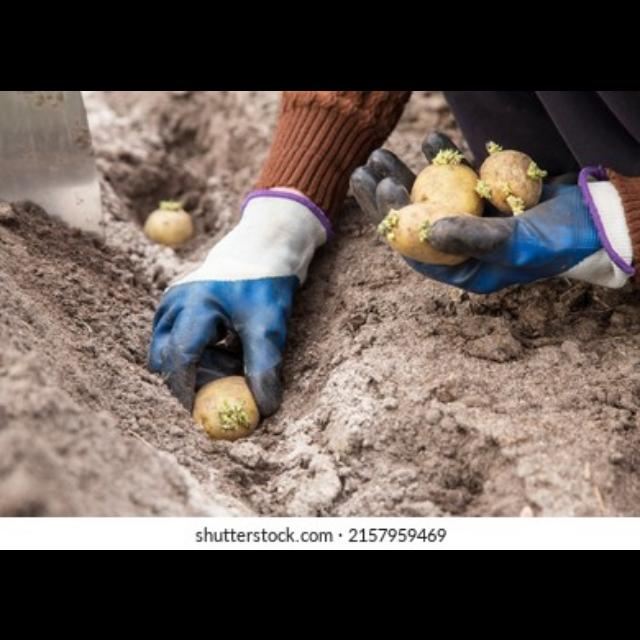Sprouted potato: (370, 193, 480, 265), (182, 364, 268, 446), (470, 128, 546, 216), (408, 148, 484, 226), (138, 196, 192, 252)
